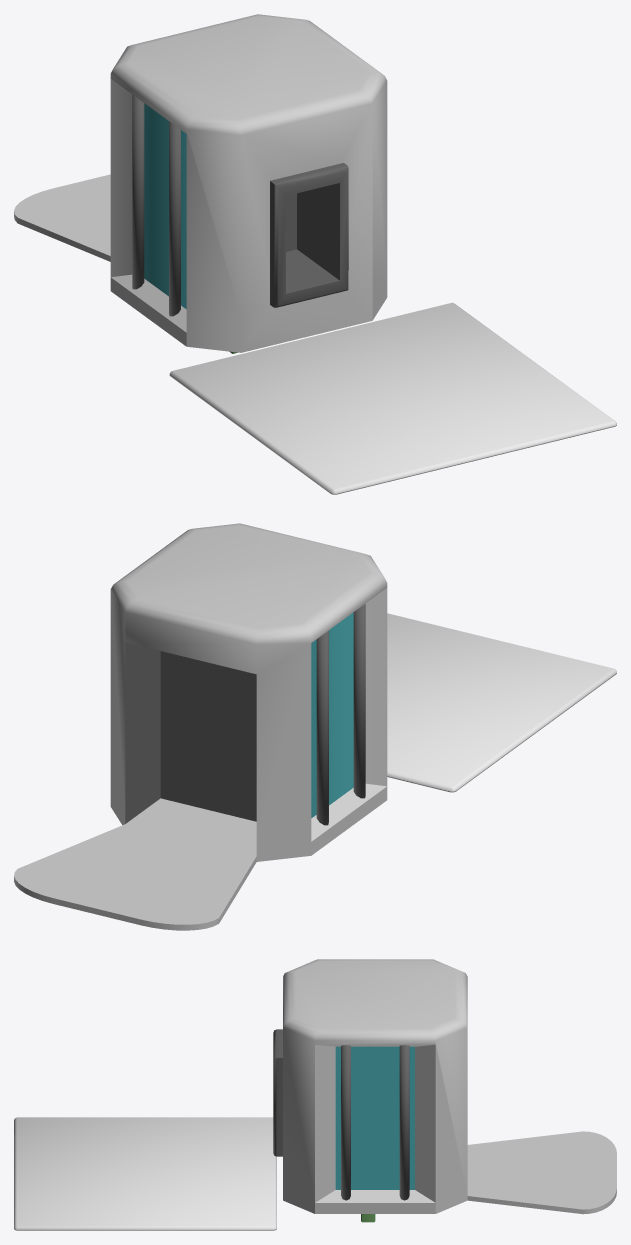
Rendered from mansell1.fbx.
3 views of the same model, one above another, from view 1: azimuth 30°, elevation 25°; view 2: azimuth 150°, elevation 25°; view 3: azimuth 270°, elevation 25° (orthographic). The views are drawn at different scales.
Parts seen in each view (by area): view 1: mansell, Plane.003, mansell.001, Cylinder; view 2: mansell, Plane.003, mansell.001, Cylinder; view 3: mansell, Plane.003, mansell.001, Cylinder.
Part boxes in pixels (x1,y1,x2,y2): mansell: (110, 14, 387, 352); Plane.003: (169, 302, 616, 494); mansell.001: (14, 174, 110, 261); Cylinder: (132, 94, 180, 316); mansell: (110, 523, 387, 861); Plane.003: (387, 613, 616, 792); mansell.001: (14, 824, 256, 930); Cylinder: (316, 603, 365, 825); mansell: (273, 959, 467, 1213); Plane.003: (14, 1117, 276, 1230); mansell.001: (467, 1131, 616, 1214); Cylinder: (341, 1045, 409, 1200).
Size of the model in its own units: 3.34 by 3.06 by 7.65.
